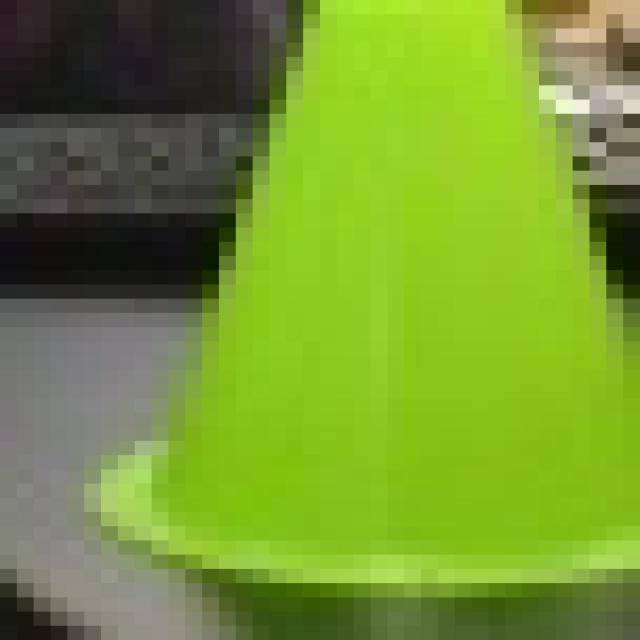cono: (84, 0, 623, 626)
